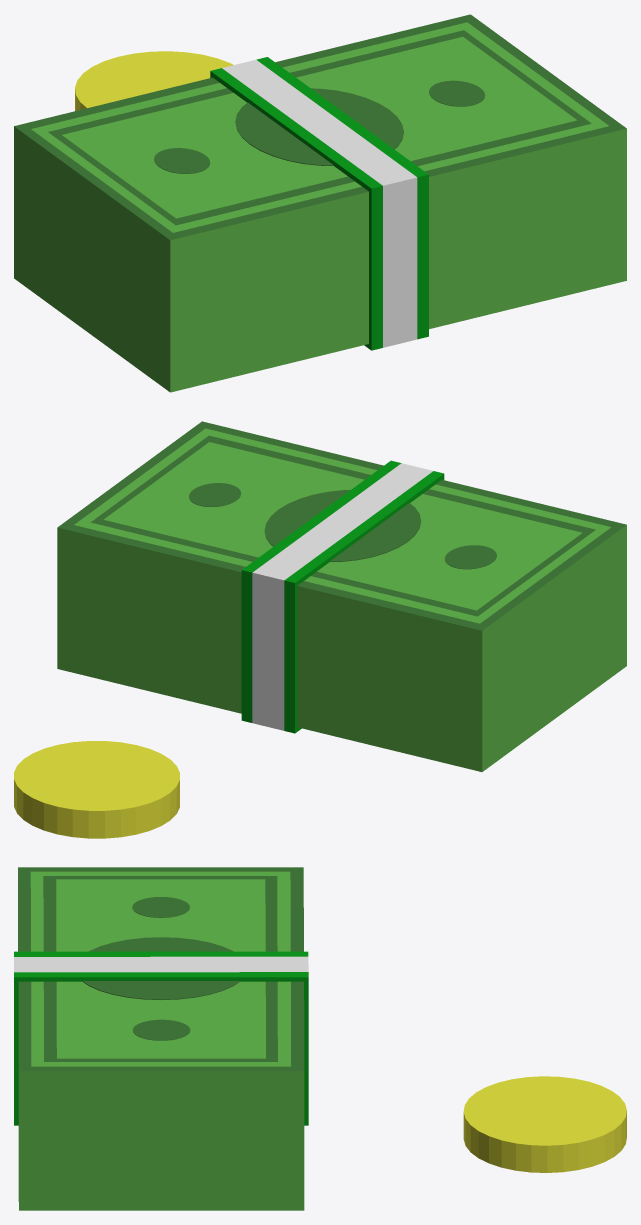
Rendered from toonish dolar.fbx.
3 renders of one model, top to bottom at view 1: azimuth 30°, elevation 25°; view 2: azimuth 150°, elevation 25°; view 3: azimuth 270°, elevation 25°, orthographic. The views are drawn at different scales.
Visible parts, largest first — view 1: Money_Money mat_0, Coin_Coin mat_0; view 2: Money_Money mat_0, Coin_Coin mat_0; view 3: Money_Money mat_0, Coin_Coin mat_0.
Part boxes in pixels (x1=…): Money_Money mat_0: x1=14, y1=14, x2=626, y2=392; Coin_Coin mat_0: x1=75, y1=51, x2=233, y2=110; Money_Money mat_0: x1=57, y1=421, x2=626, y2=771; Coin_Coin mat_0: x1=14, y1=741, x2=179, y2=838; Money_Money mat_0: x1=14, y1=867, x2=308, y2=1210; Coin_Coin mat_0: x1=463, y1=1076, x2=626, y2=1172.
Bounding box in the file's own units: 37.33 × 12.73 × 47.36.
